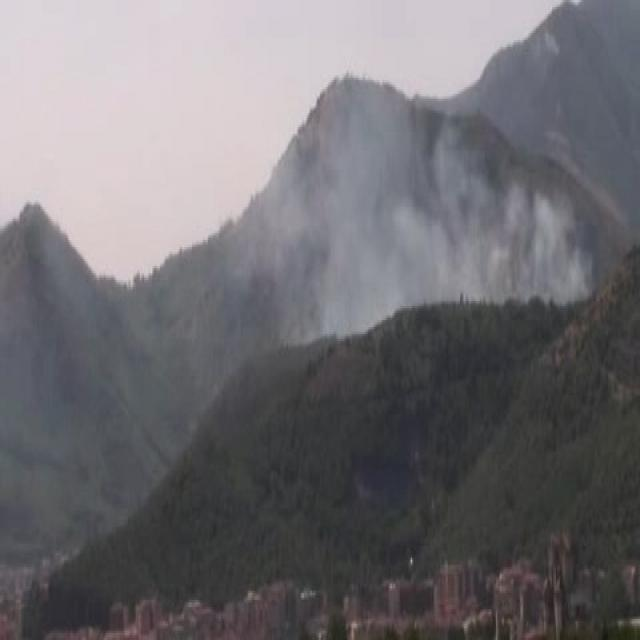smoke: (330, 111, 560, 302)
